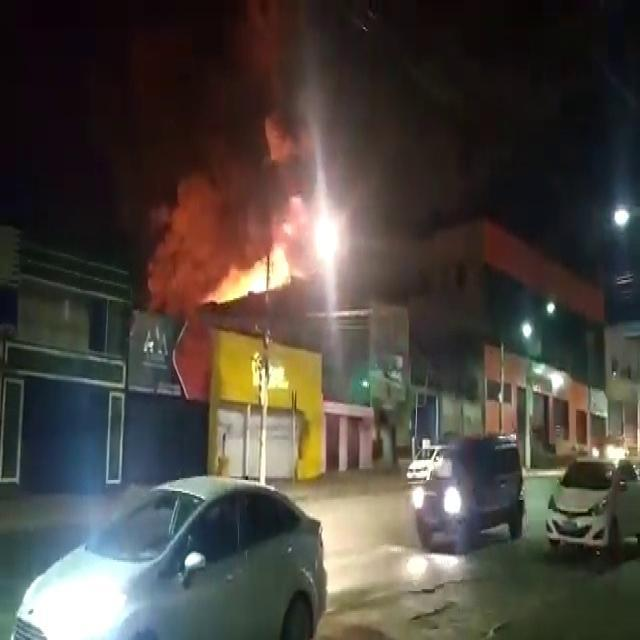Fire: (224, 242, 292, 297)
Smoke: (140, 20, 302, 243), (148, 254, 214, 314)
